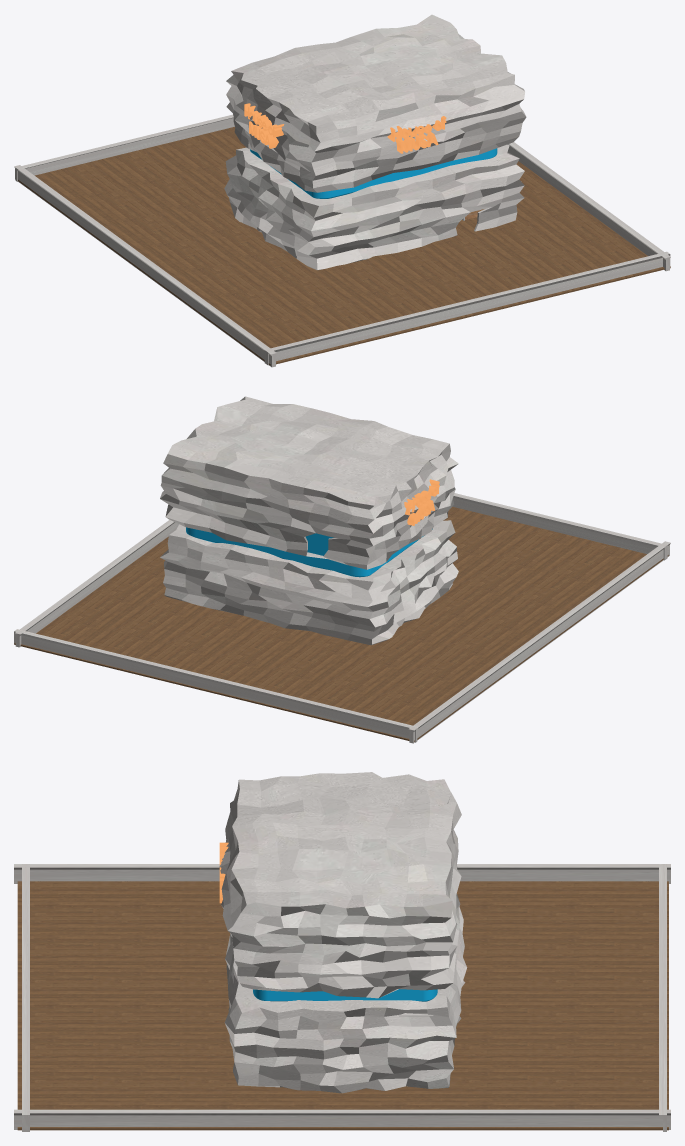
Rendered from gallery10.glb.
3 renders of one model, top to bottom at view 1: azimuth 30°, elevation 25°; view 2: azimuth 150°, elevation 25°; view 3: azimuth 270°, elevation 25°, orthographic. The views are drawn at different scales.
Parts seen in each view (by area): view 1: Cube.012, Cube, Cube.009, Text, Cube.014; view 2: Cube.012, Cube, Cube.009, Cube.014, Text; view 3: Cube, Cube.012, Cube.009, Cube.014.
Part boxes in pixels (x1,y1,x2,y2): Cube.012: (224, 14, 526, 270); Cube: (18, 127, 670, 365); Cube.009: (14, 114, 670, 367); Text: (244, 103, 446, 153); Cube.014: (250, 148, 497, 198); Cube.012: (160, 396, 458, 645); Cube: (14, 506, 668, 741); Cube.009: (14, 493, 670, 743); Cube.014: (186, 527, 432, 577); Text: (404, 479, 439, 525); Cube: (17, 881, 668, 1130); Cube.012: (219, 772, 467, 1093); Cube.009: (14, 864, 670, 1131); Cube.014: (253, 989, 437, 1001).
Size of the model in its own units: 111 by 41.6 by 123.
23 materials, 13 textured.
